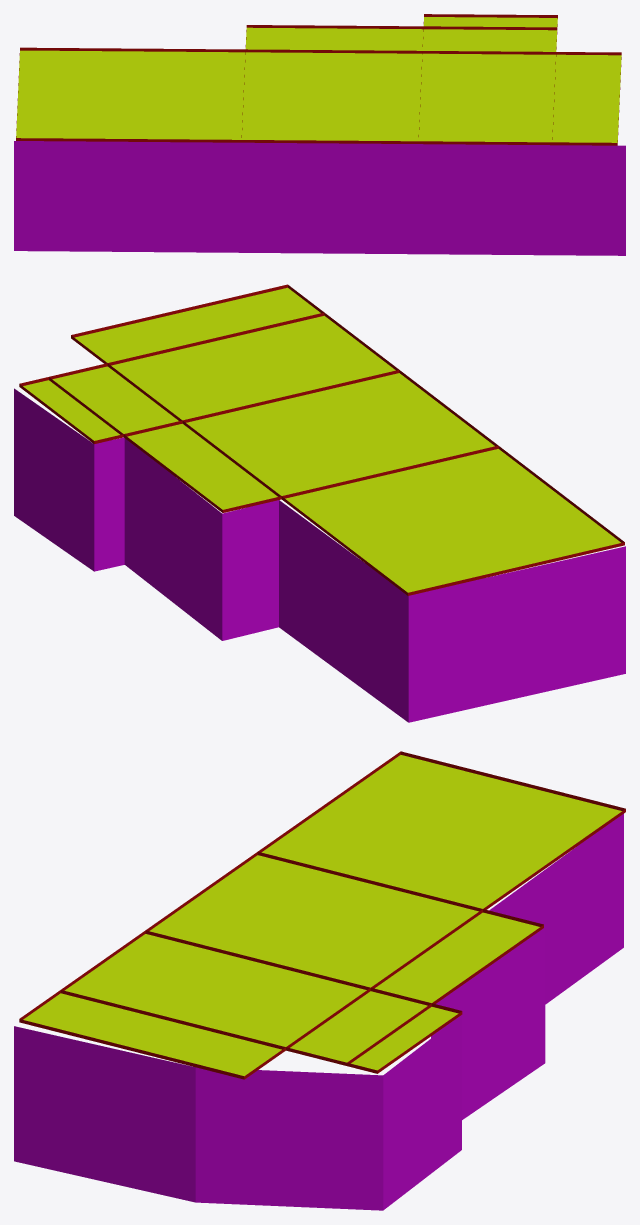
The model's file is cor_1.glb.
3 views of the same model, one above another, from view 1: azimuth 30°, elevation 25°; view 2: azimuth 150°, elevation 25°; view 3: azimuth 270°, elevation 25° (orthographic). The views are drawn at different scales.
Parts seen in each view (by area): view 1: cor_1; view 2: cor_1; view 3: cor_1.
Part boxes in pixels (bbox=[...]): cor_1: bbox=[14, 14, 625, 255]; cor_1: bbox=[14, 284, 625, 722]; cor_1: bbox=[14, 751, 625, 1210].
Bounding box in the file's own units: 70.59 × 14.02 × 56.03.
